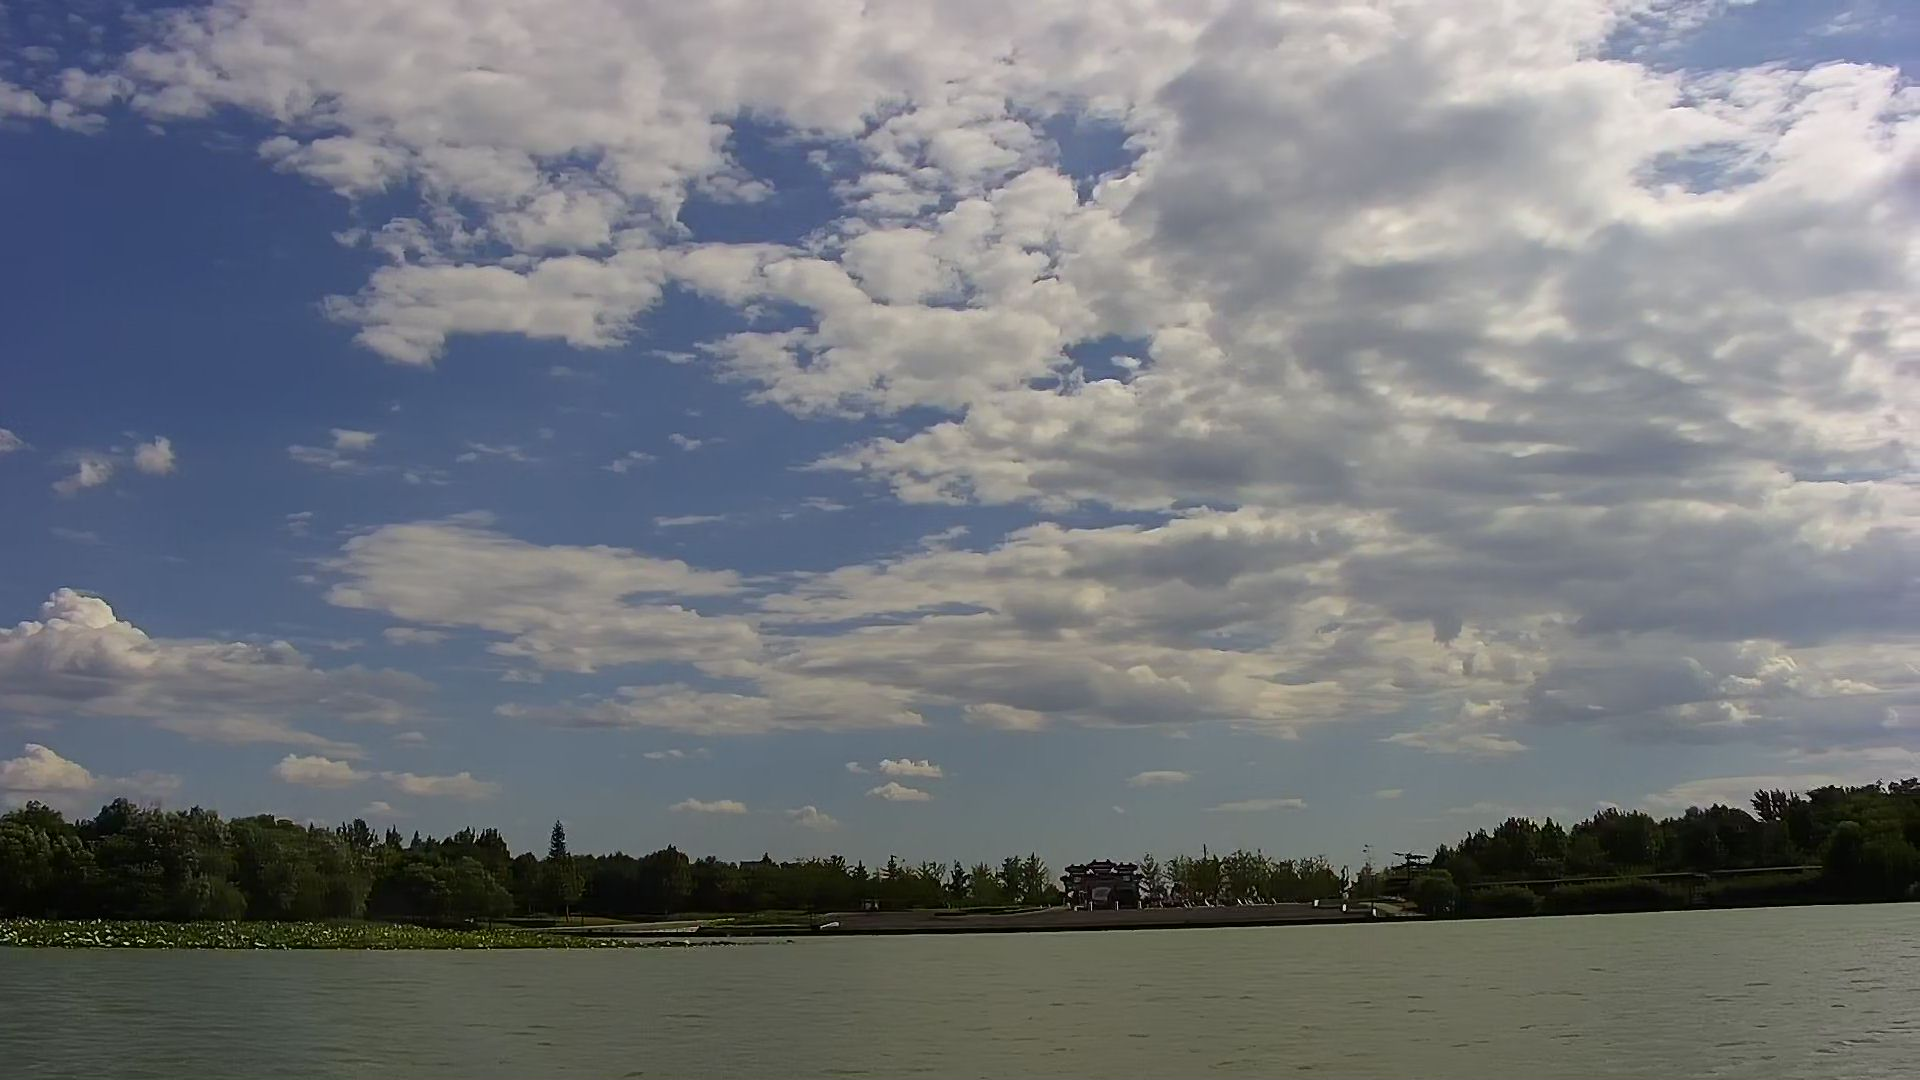harbor: (840, 899, 1448, 938)
